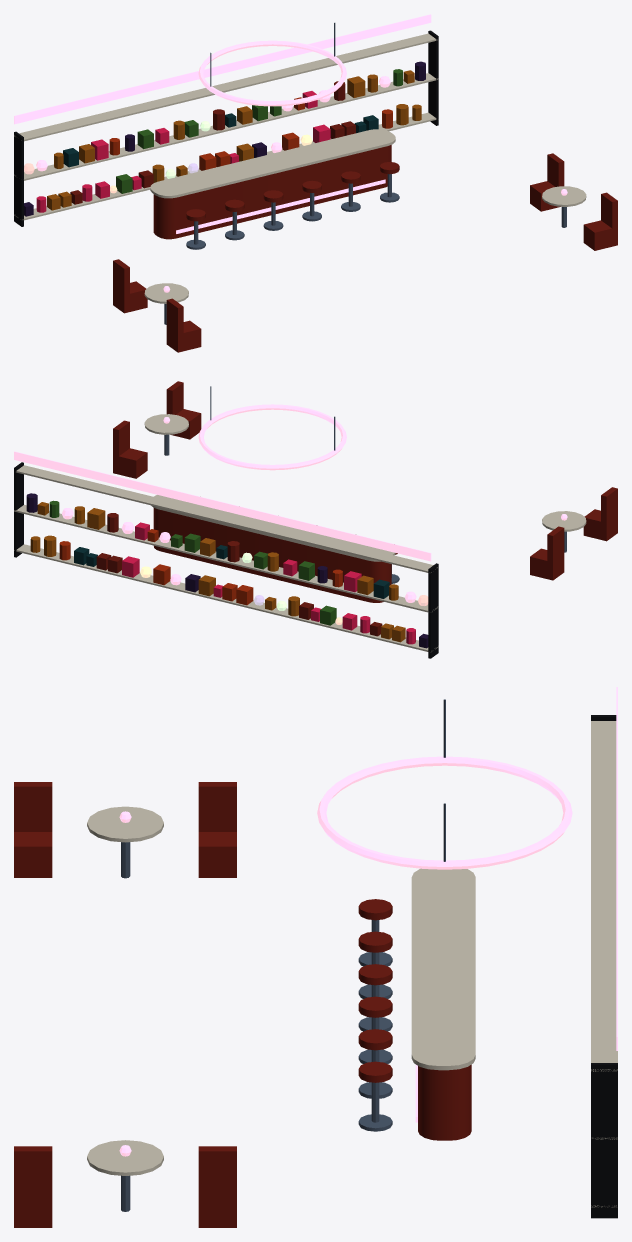
File: fit_bar_3.glb
3 renders of one model, top to bottom at view 1: azimuth 30°, elevation 25°; view 2: azimuth 150°, elevation 25°; view 3: azimuth 270°, elevation 25°, orthographic. The views are drawn at different scales.
Visible parts, largest first — view 1: fit_bar_3; view 2: fit_bar_3; view 3: fit_bar_3.
Boxes of the visible parts, x1=… form: fit_bar_3: x1=14, y1=14, x2=617, y2=352; fit_bar_3: x1=14, y1=381, x2=617, y2=658; fit_bar_3: x1=14, y1=687, x2=617, y2=1227.
Bounding box in the file's own units: 11.36 × 4.18 × 7.85.
